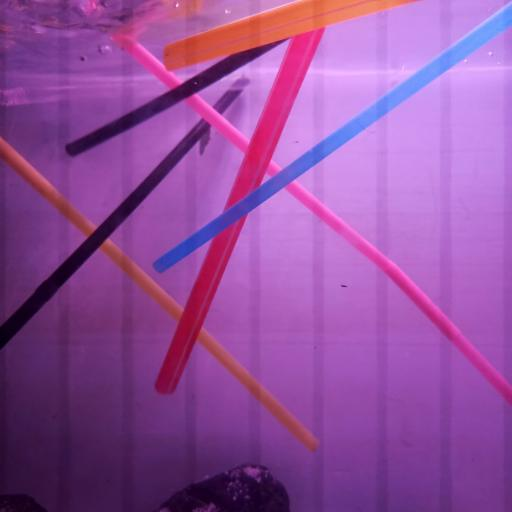plastic_straw: (111, 35, 512, 407), (0, 134, 320, 454), (154, 0, 510, 276), (1, 77, 249, 350), (154, 25, 327, 400), (66, 39, 289, 159), (160, 0, 414, 72), (0, 80, 162, 107)
